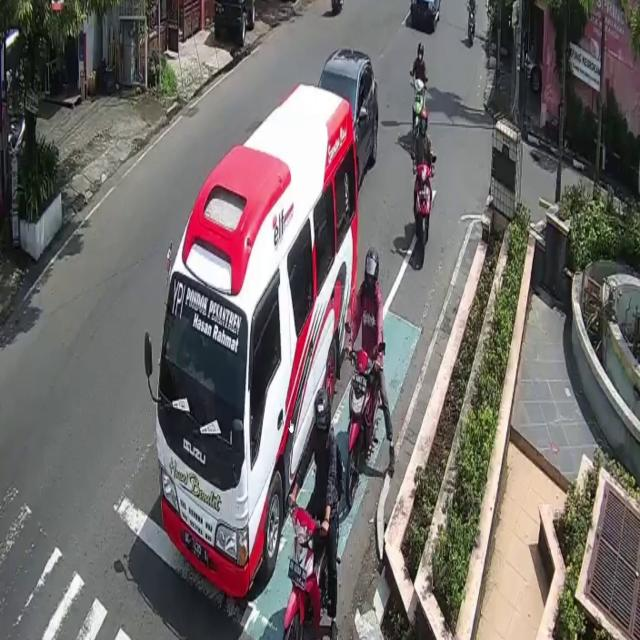bus: (285, 501, 332, 640), (349, 347, 380, 502), (414, 166, 432, 268), (410, 78, 427, 162), (467, 7, 476, 48)
car: (157, 82, 358, 594)
motorcycle: (316, 51, 377, 188), (408, 0, 444, 36)
